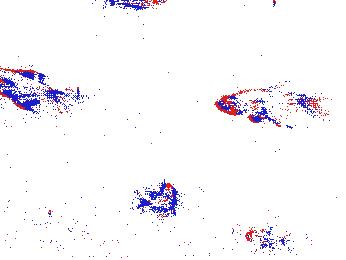X-ray fish: (140, 180, 179, 215)
red belly glassfish: (244, 228, 288, 249)
redtail glassfish: (211, 83, 322, 128), (1, 67, 70, 115)
